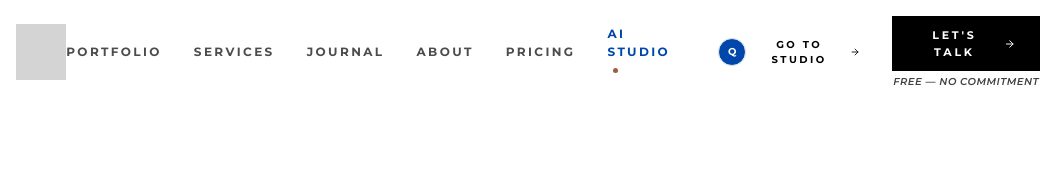
it: Header Component › shows account chip + "Go to Studio" + Sign out when logged in
Check: the button "Go to Studio" is shown, box [754,36,860,66]
Click the button named "QA User": click(732, 52) [718,38,746,66]
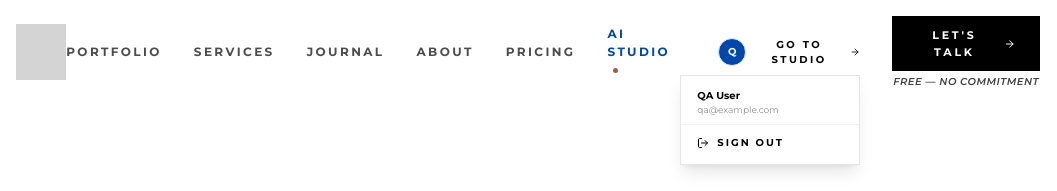
Check: the menu item "Sign out" is shown, box [681,125,859,160]
